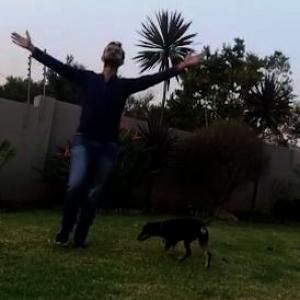takeoff: (12, 37, 189, 240)
